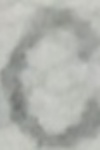C: (0, 0, 99, 149)
